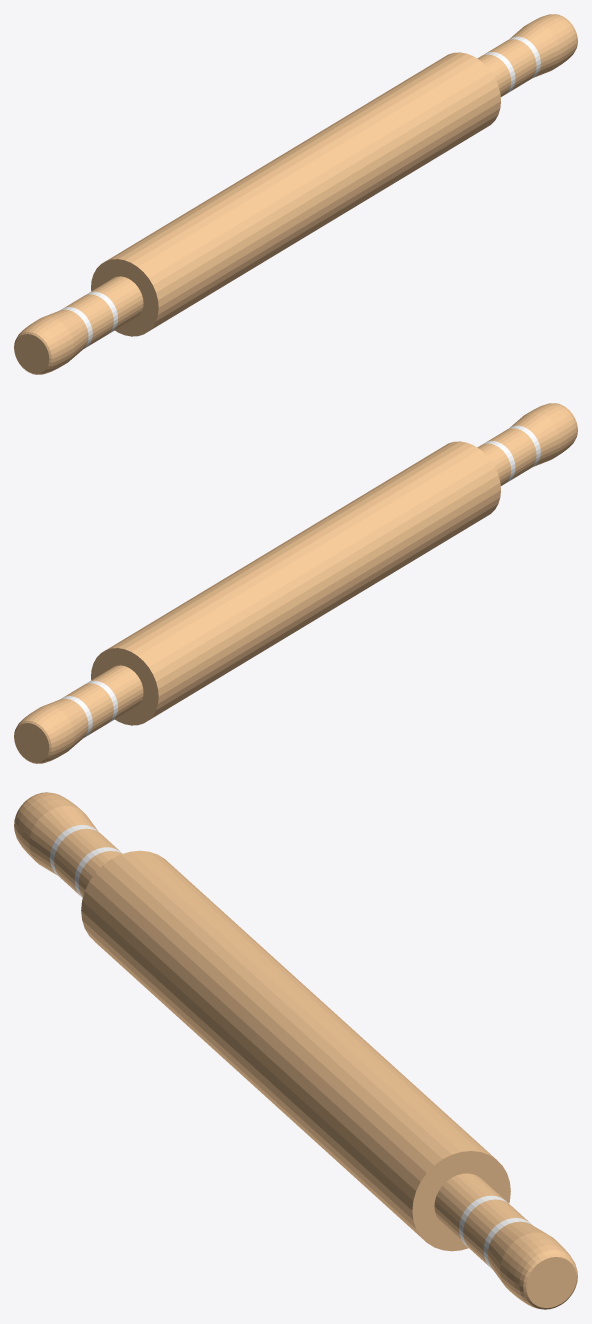
The model's file is 0cee1467-b1c3-4d8b-ac8b-ac8a41918eae.glb.
The picture shows the model from 3 angles, top to bottom: view 1: azimuth 30°, elevation 25°; view 2: azimuth 210°, elevation 25°; view 3: azimuth 270°, elevation 25°; orthographic projection. The views are drawn at different scales.
Visible parts, largest first — view 1: Cylinder001; view 2: Cylinder001; view 3: Cylinder001.
Boxes of the visible parts, x1,y1,x2,y2 form: Cylinder001: (14, 14, 577, 374); Cylinder001: (14, 403, 577, 763); Cylinder001: (14, 792, 577, 1309).
Bounding box in the file's own units: 2332663 × 226502 × 1175580.
